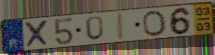0: (84, 16, 105, 42)
5: (52, 17, 74, 46)
6: (168, 6, 194, 36)
I: (115, 11, 126, 42)
O: (141, 9, 167, 38)
X: (24, 19, 51, 49)
